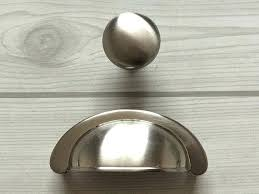cabinet door: (1, 97, 258, 192), (5, 8, 259, 91)
handle: (43, 110, 211, 179), (97, 16, 169, 71)
